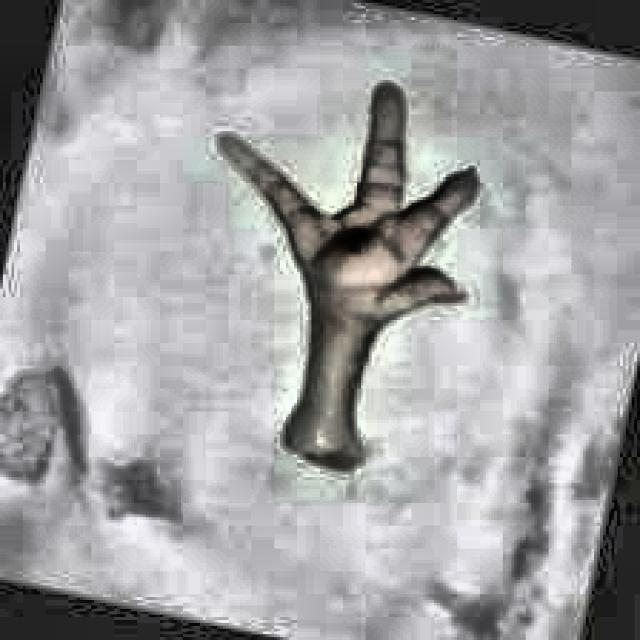Bumble foot: (326, 222, 387, 274)
